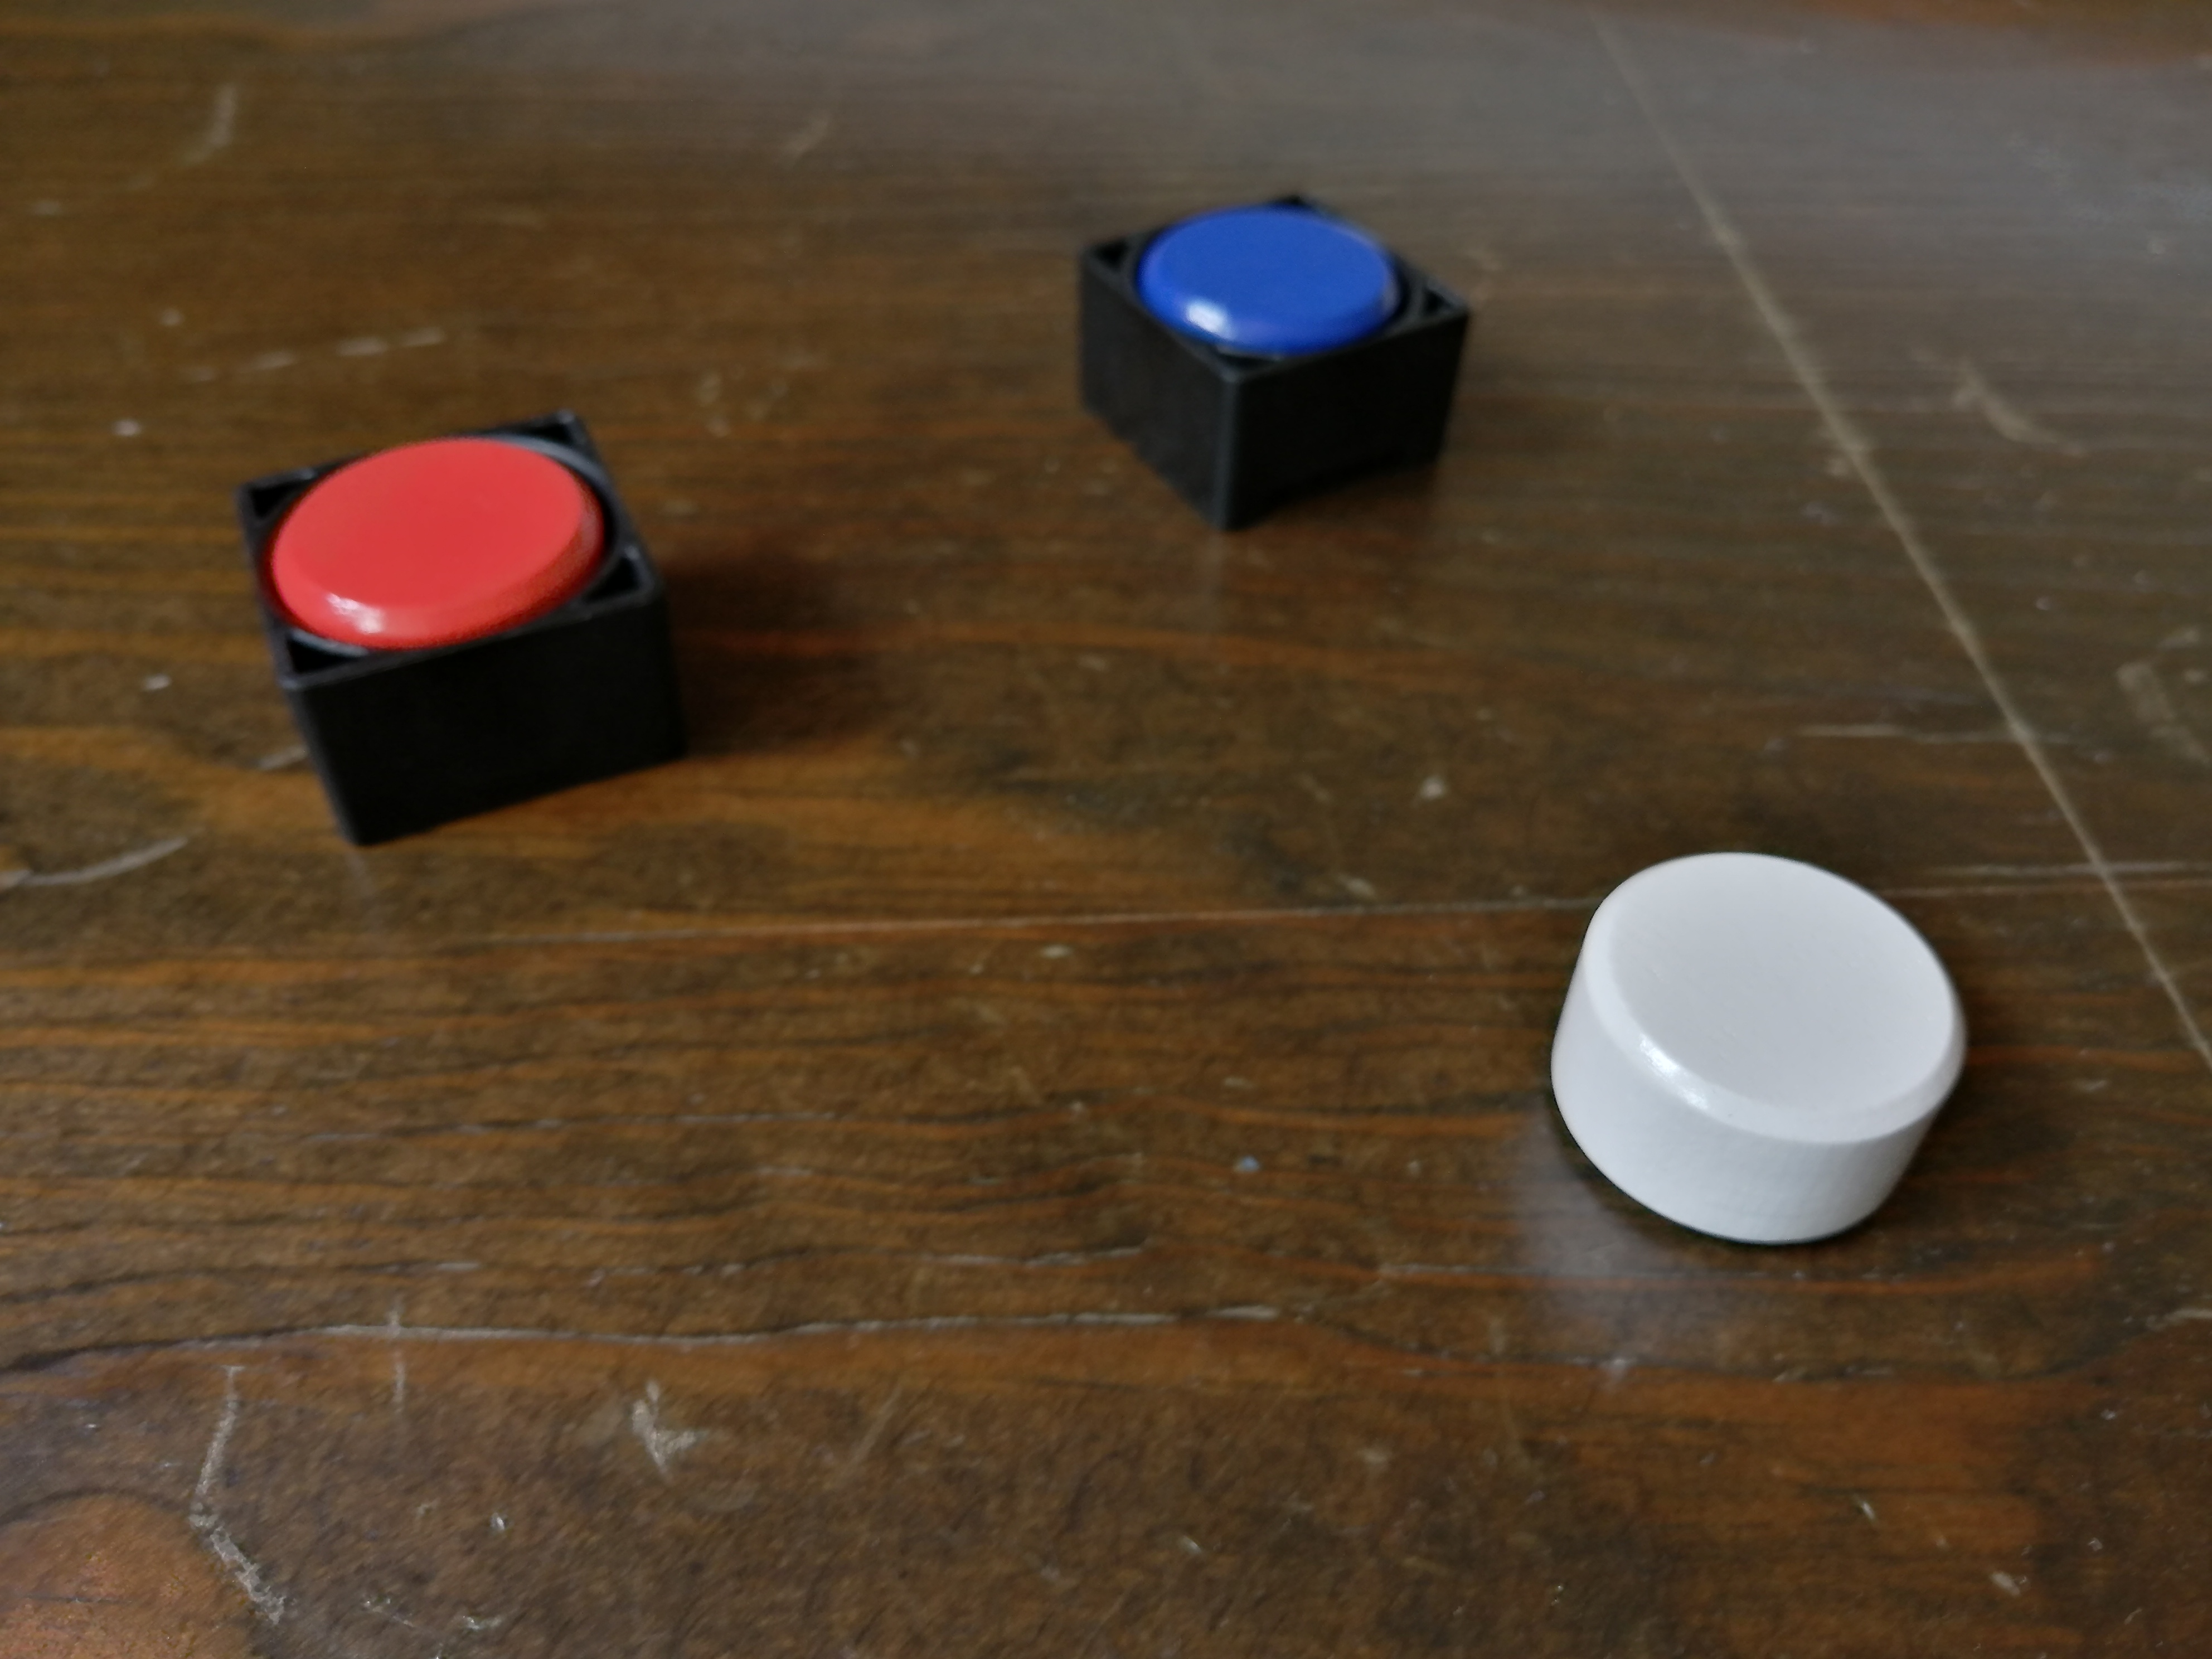Behaelter: (237, 410, 660, 850), (1068, 185, 1467, 525)
WerkStueck: (1552, 857, 1970, 1249), (273, 437, 606, 647), (1136, 213, 1406, 366)
